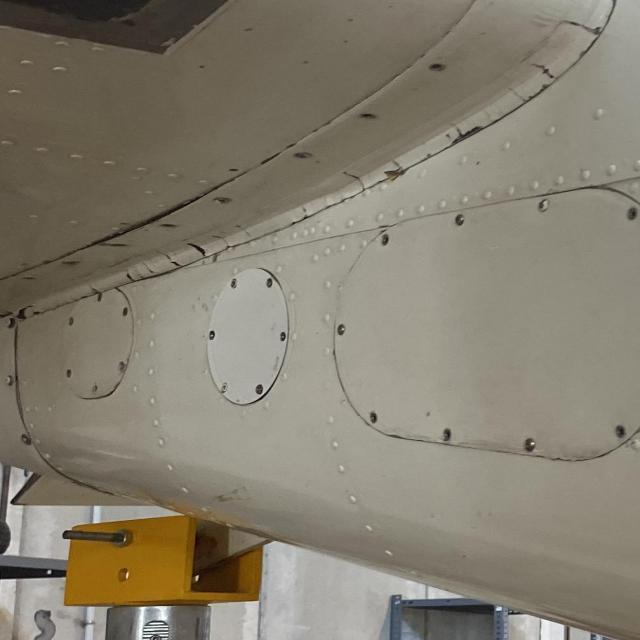Missing-head: (623, 205, 640, 221), (613, 424, 629, 440), (378, 231, 391, 248), (366, 411, 380, 426), (356, 110, 375, 121), (427, 63, 445, 74), (441, 427, 453, 443), (157, 222, 178, 230), (107, 242, 130, 249), (278, 331, 287, 343)
